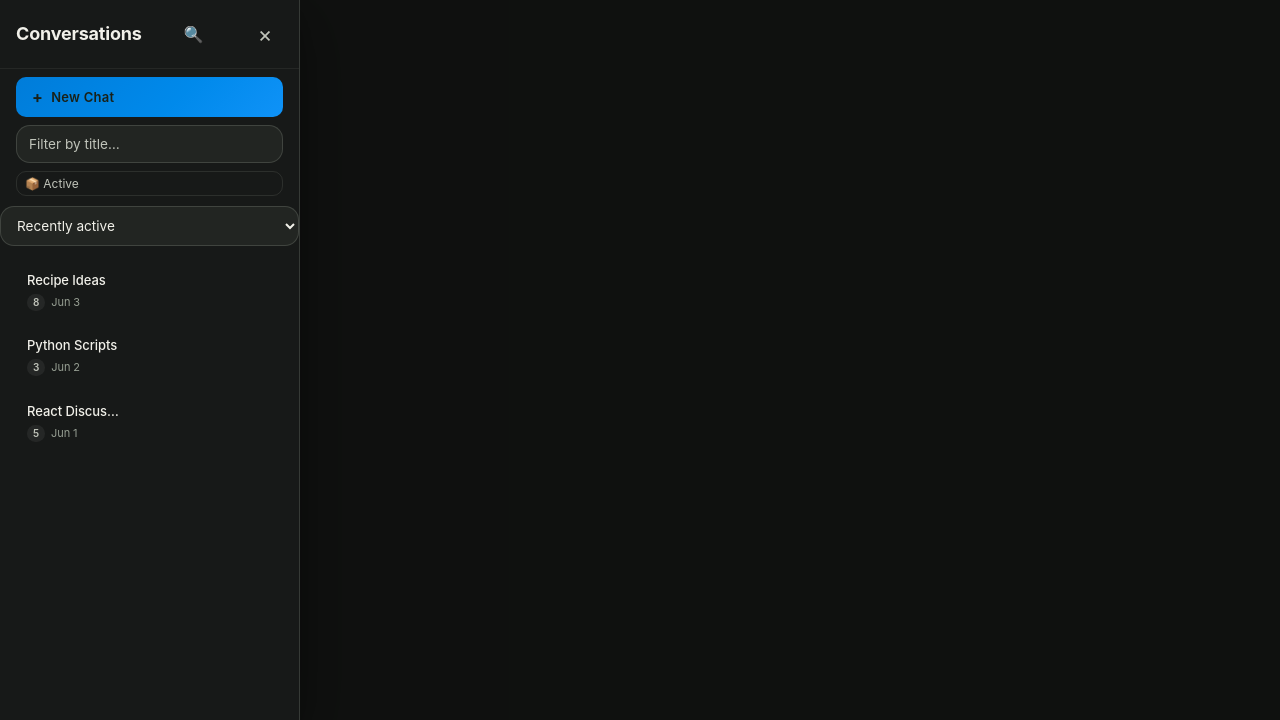
Test case: ConversationSidebar quick filter › clear button resets filter
Expected: the text "React Discussion" is shown, [27,401,119,422]
Type "python" into the field with placeholder "Filter by title…". click: [150, 144]
box: [16,125,283,163]
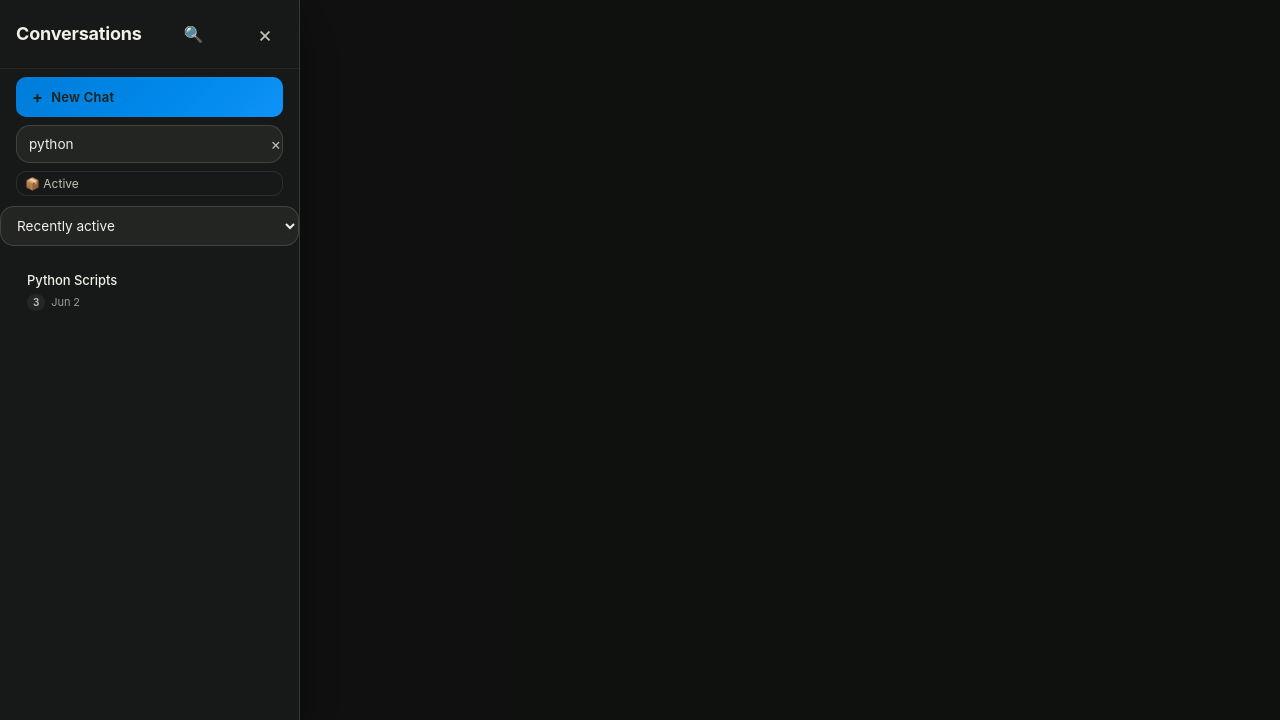
Now the text "React Discussion" is gone
// Click clear button
Click the button named "Clear filter". click: [276, 144]
box: [266,134,285,154]
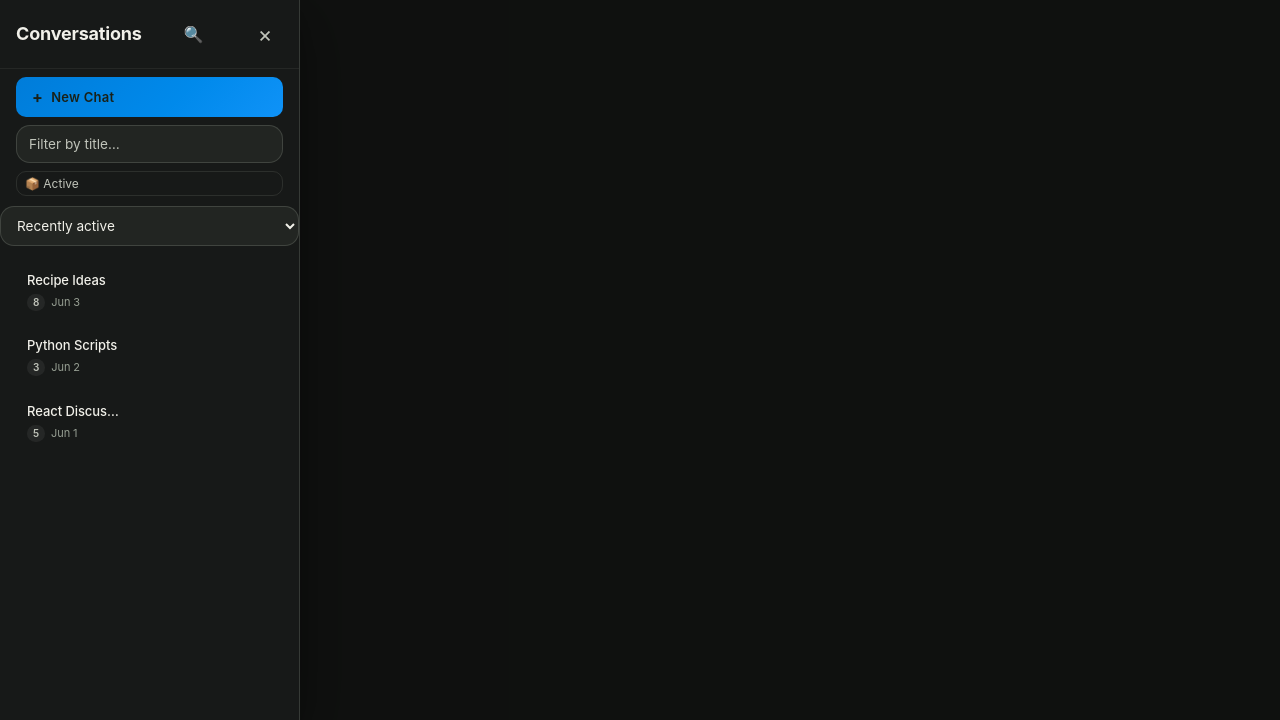
Expected: the text "Python Scripts" is shown, [27,335,119,356]
Now the text "React Discussion" is shown, box [27,401,119,422]
Now the text "Recipe Ideas" is shown, box [27,270,119,291]
